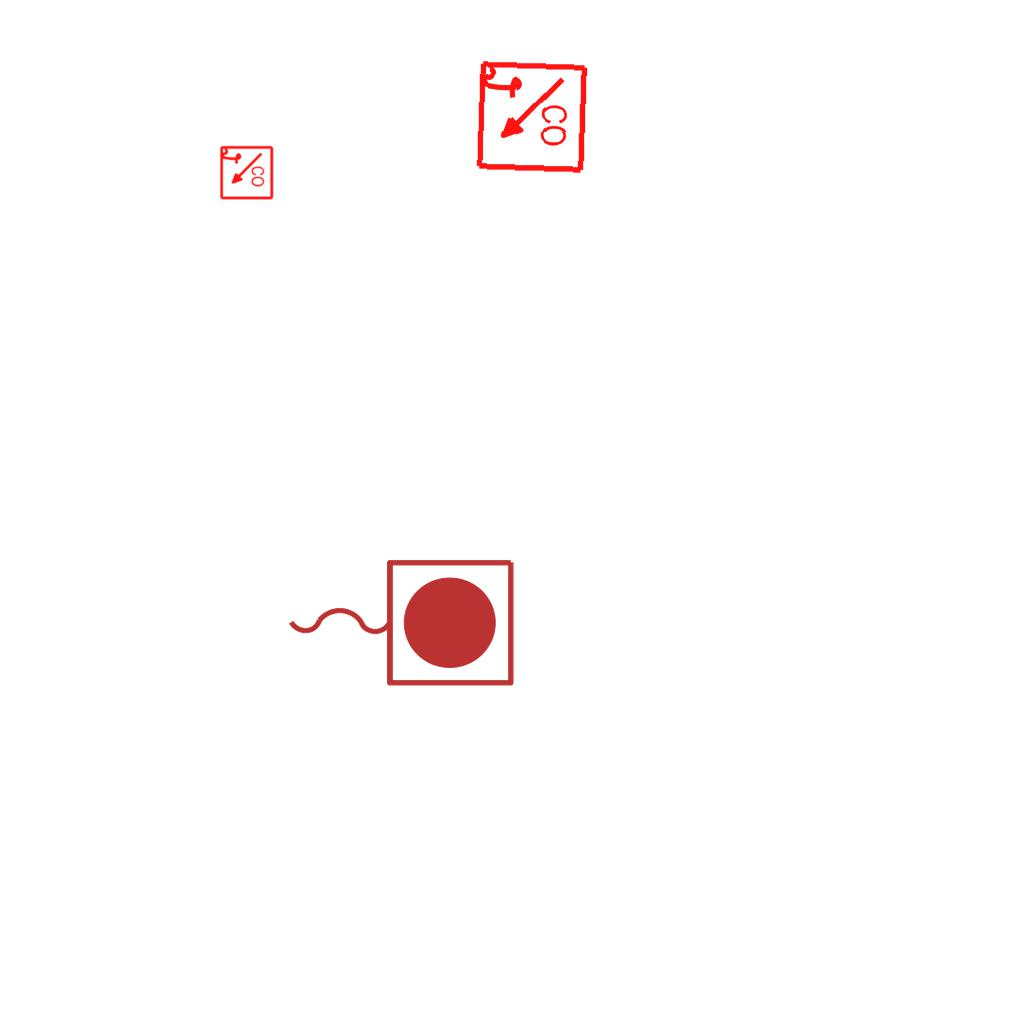ROA_Rauchmelder_optisch_mit_Signalgeber_(Sockelsirene): (472, 59, 589, 176), (218, 145, 274, 201)
Zugtaster: (278, 549, 522, 693)
